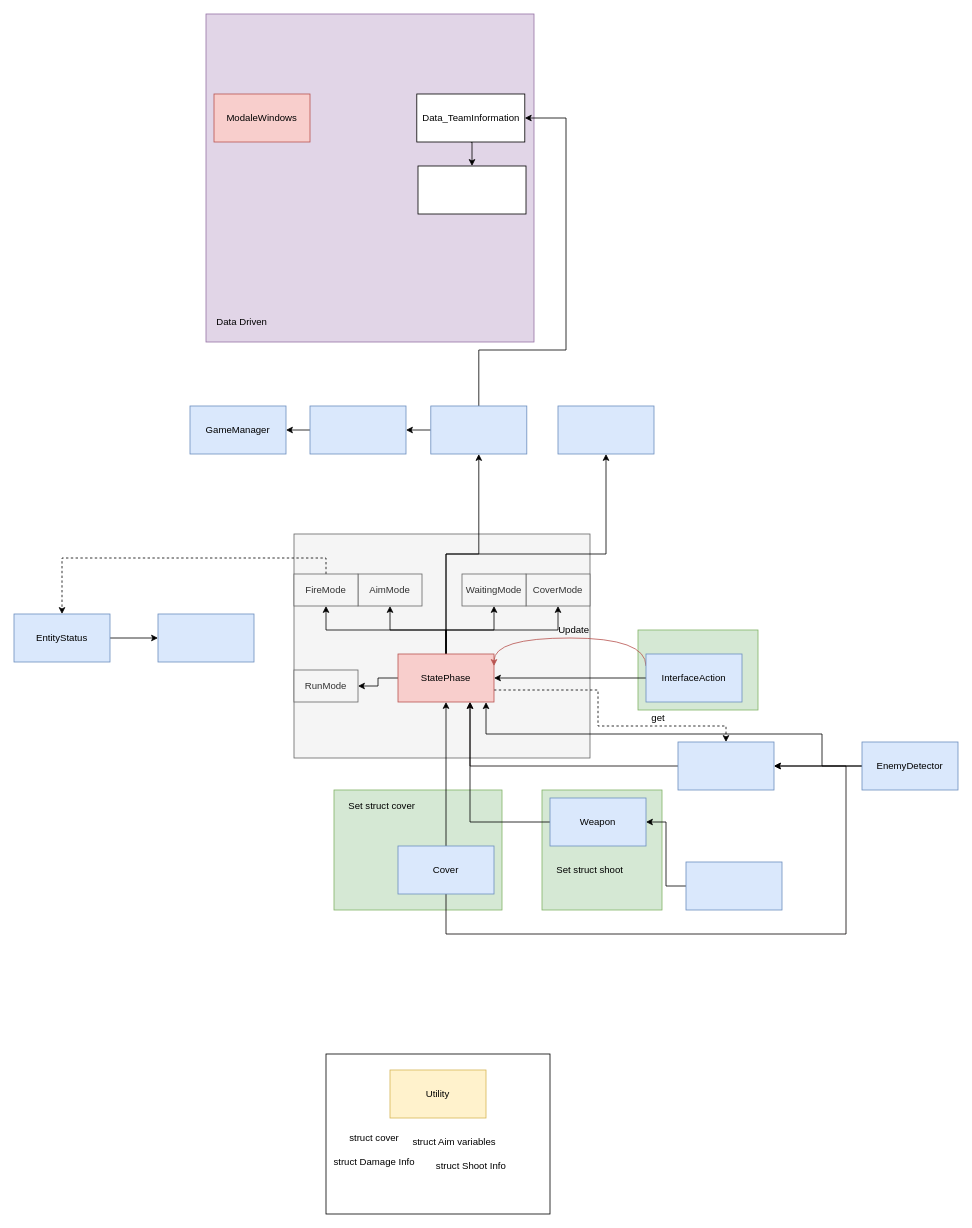
Image size: 972x1228. Some labels were removed from this diagram. The shapes that lost their labels are listed below. From the top down, each one's box as (x1, y1, x2, y2) in pixels, then its label:
(417, 165, 526, 214): Data_GameInformation
(309, 405, 406, 454): TeamPlayerManager
(430, 405, 527, 454): CameraManager
(557, 405, 654, 454): Projectiles Manager
(157, 613, 254, 662): CharacterAppearance
(677, 741, 774, 790): BoundTarget
(685, 861, 782, 910): CharacterEquipment
